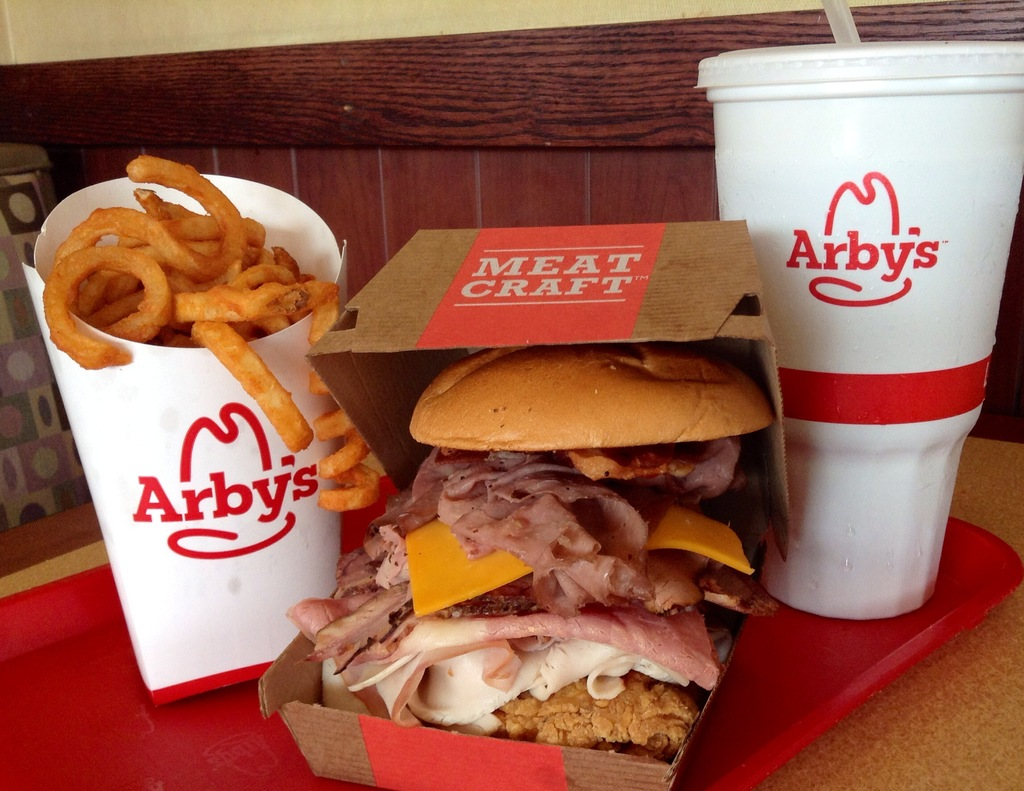French fries: (43, 155, 251, 372), (288, 282, 386, 516), (183, 317, 318, 453), (102, 241, 232, 305), (117, 208, 272, 248), (241, 281, 307, 327), (74, 270, 136, 318), (91, 285, 149, 327), (227, 259, 291, 285), (274, 237, 304, 282), (171, 274, 240, 293), (133, 189, 167, 217)
